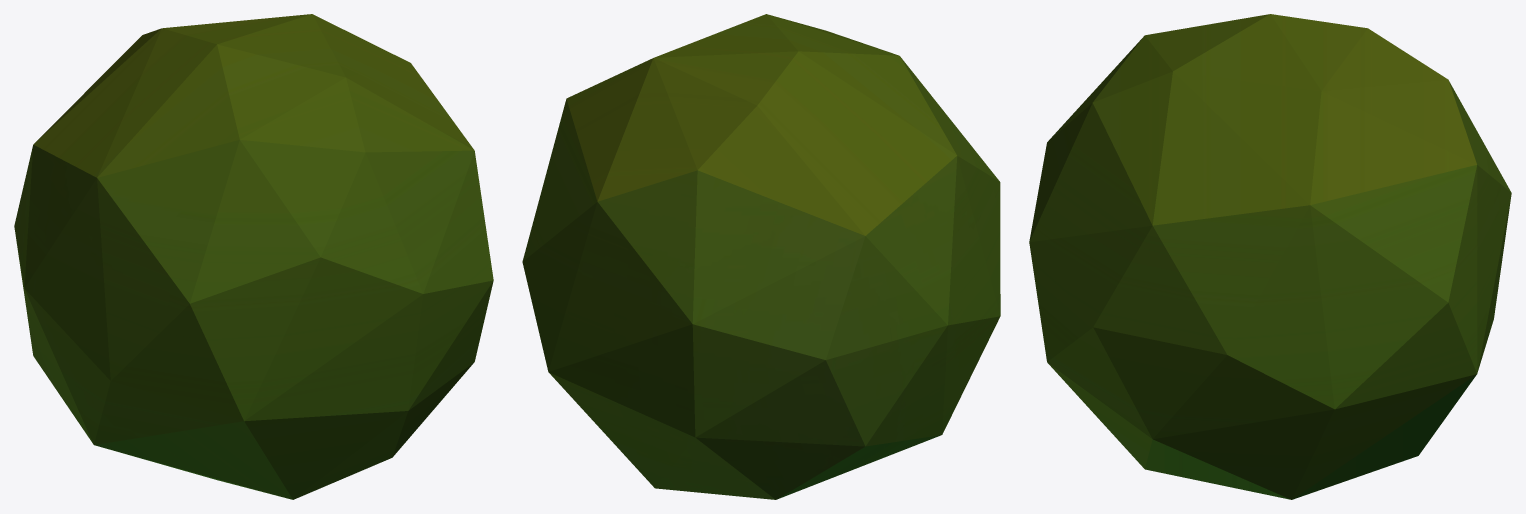
File: coconut.fbx
3 renders of one model, left to right at view 1: azimuth 30°, elevation 25°; view 2: azimuth 150°, elevation 25°; view 3: azimuth 270°, elevation 25°, orthographic.
Visible parts, largest first — view 1: Leaves_v3; view 2: Leaves_v3; view 3: Leaves_v3.
Boxes of the visible parts, x1,y1,x2,y2 form: Leaves_v3: (14,14,493,499); Leaves_v3: (522,14,1000,499); Leaves_v3: (1029,14,1511,499).
Bounding box in the file's own units: 93.03 × 93.03 × 92.37.
